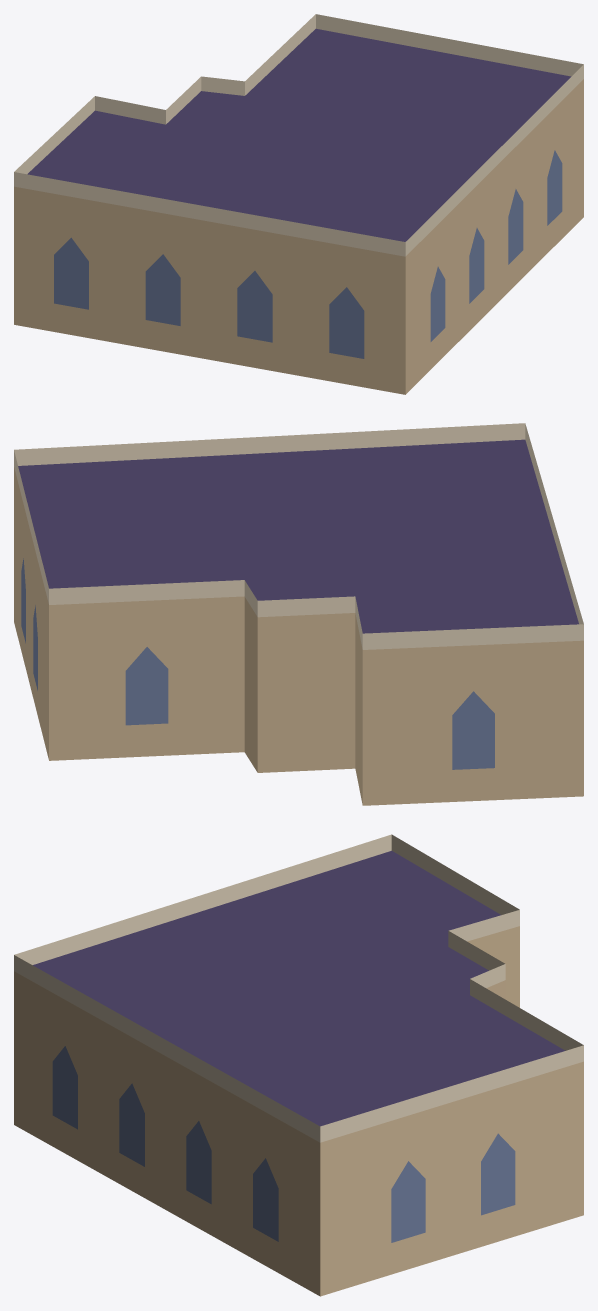
File: b-054-day.glb
The picture shows the model from 3 angles, top to bottom: view 1: azimuth 30°, elevation 25°; view 2: azimuth 150°, elevation 25°; view 3: azimuth 270°, elevation 25°; orthographic projection. The views are drawn at different scales.
Visible parts, largest first — view 1: campus/b-054-day-0; view 2: campus/b-054-day-0; view 3: campus/b-054-day-0.
Part boxes in pixels (bbox=[...]): campus/b-054-day-0: bbox=[14, 14, 583, 394]; campus/b-054-day-0: bbox=[14, 423, 583, 805]; campus/b-054-day-0: bbox=[14, 834, 583, 1296].
Bounding box in the file's own units: 21.18 × 5.75 × 17.47.
